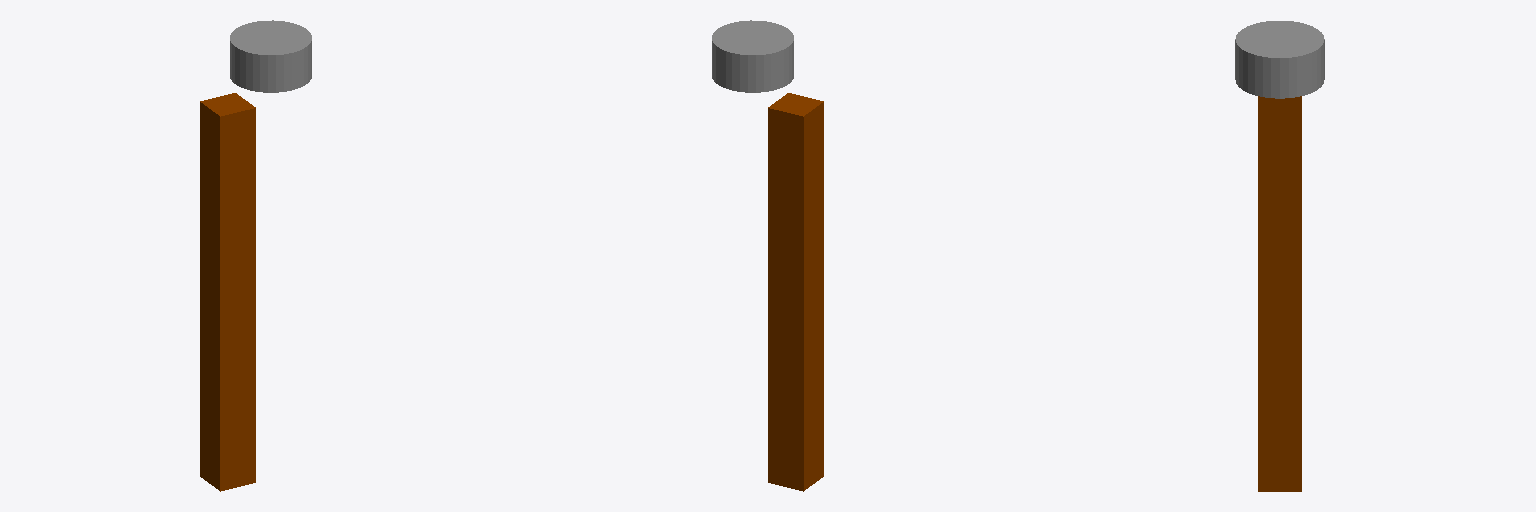
The robot description file, URDF, robot "awesome_leg_complete_fixed":
<?xml version="1.0" encoding="utf-8" ?>

<!-- 
    Leg complete urdf with fixed hip (no plugins, etc..). Mainly used by Horizon.
-->

<robot name="awesome_leg_complete_fixed" xmlns:xacro="http://www.ros.org/wiki/xacro">

    <!-- ################### MATERIAL DEFINITIONS ################### -->

    <material name="sky_blue">
        <color rgba="0.13 0.44 0.70 1"/>
    </material>
    <material name="grey">
        <color rgba=" 0.6 0.6 0.6 1"/>
    </material>
    <material name="black">
        <color rgba="0.4 0.4 0.4 1"/>
    </material>
    <material name="brown">
        <color rgba="0.59 0.29 0.0 1"/>
    </material>

    <!-- ################### LINKS ################### -->
    <link name="world"/>

   <link name="test_rig"> <!-- test rig link; defined here to be able to cope with passive joints -->
      <visual>
          <origin rpy="0 0 0" xyz="-0.12 0 0" />
          <geometry>
              <box size="0.1 0.1 1" />
          </geometry>
          <material name="brown"/>
      </visual>
      
      <collision>
          <origin rpy="0 0 0" xyz="-0.12 0 0" />
          <geometry>
              <box size="0.1 0.1 1" />
          </geometry>
      </collision>
      
      <inertial>
          <mass value="0.1" />
          <inertia ixx="0.03" iyy="0.03" izz="0.03" ixy="0.0" ixz="0.0" iyz="0.0" />
      </inertial>

    </link>  

    <link name="pelvis">
        <inertial>
        <mass value="10.0"/> <!-- considering also the mass contribution of the robot torso -->
        <inertia ixx="0.00208333333333" ixy="0.0" ixz="0.0" iyy="0.00208333333333" iyz="0.0" izz="0.0025"/>
        </inertial>
        <visual>
        <material name="grey"/>
        <geometry>
            <cylinder length="0.1" radius="0.1"/>
        </geometry>
        </visual>
        <visual>
        <geometry>
            <cylinder length="0.1" radius="0.1"/>
        </geometry>
        </visual>
    </link>

    <link name="hip1_1">
        <inertial>
        <origin xyz="0.010214199 0.0 0.038090987"/>
        <mass value="1.9194403"/>
        <inertia ixx="0.0047439572" ixy="-0.0" ixz="-0.0003784138" iyy="0.0040551878" iyz="-0.0" izz="0.0034146219"/>
        </inertial>
        <visual>
        <origin rpy="0.0 0.0 2.03221245002" xyz="0.0 0.0 0.0"/>
        <geometry>
            <mesh filename="package://awesome_leg/description/meshes/visual/hip-yaw.stl" scale="0.001 0.001 0.001"/>
        </geometry>
        <material name="grey"/>
        </visual>
        <collision>
        <origin rpy="0.0 0.0 2.03221245002" xyz="0.0 0.0 0.0"/>
        <geometry>
            <mesh filename="package://awesome_leg/description/meshes/collision/hip-yaw.stl" scale="0.001 0.001 0.001"/>
        </geometry>
        </collision>
    </link>

    <link name="hip2_1">
        <inertial>
        <origin xyz="2.57966e-05 0.1810266 0.085669756"/>
        <mass value="2.7264471"/>
        <inertia ixx="0.04851869" ixy="-4.11894e-05" ixz="-1.68778e-05" iyy="0.004242055" iyz="0.0032243188" izz="0.04825583"/>
        </inertial>
        <visual>
        <origin rpy="0.0 0.0 0.0" xyz="0.0 0.0 0.0"/>
        <material name="sky_blue"/>
        <geometry>
            <mesh filename="package://awesome_leg/description/meshes/visual/hip-pitch.stl" scale="0.001 0.001 0.001"/>
        </geometry>
        </visual>
        <collision>
        <origin rpy="0.0 0.0 0.0" xyz="0.0 0.0 0.0"/>
        <geometry>
            <mesh filename="package://awesome_leg/description/meshes/collision/hip-pitch.stl" scale="0.001 0.001 0.001"/>
        </geometry>
        </collision>
    </link>

    <link name="knee_1">
        <inertial>
        <mass value="1.1927236"/>
        <origin rpy="0.0 0.0 0.0" xyz="0.19572282 -0.014549221 -0.020785942"/>
        <inertia ixx="0.0013302597" ixy="0.00060307457" ixz="0.0" iyy="0.035313402" iyz="-1.1029574e-07" izz="0.035530025"/>
        </inertial>
        <visual>
        <origin rpy="1.57079632679 0 -1.57079632679" xyz="0 0 0"/>
        <material name="grey"/>
        <geometry name="1_stick_visual">
            <mesh filename="package://awesome_leg/description/meshes/visual/front_right_stick.stl" scale="0.001 0.001 0.001"/>
        </geometry>
        </visual>
        <collision>
        <origin rpy="1.57079632679 0 -1.57079632679" xyz="0 0 0"/>
        <geometry name="1_stick_collision">
            <mesh filename="package://awesome_leg/description/meshes/collision/front_right_stick.stl" scale="0.001 0.001 0.001"/>
        </geometry>
        </collision>
    </link>
    
    <link name="tip"/> <!-- just for reference-->

    <!-- ################### JOINTS ################### -->
    
    <joint name="world_test_rig" type="fixed">
    <parent link="world"/>
    <child link="test_rig"/>
    </joint>

    <joint name="passive_joint" type="fixed">
      <parent link="test_rig" />
      <child link="pelvis" />
      <origin xyz="0 0 0.6" />
  </joint>

    <joint name="hip_yaw_1" type="fixed">
        <parent link="pelvis"/>
        <child link="hip1_1"/>
        <origin rpy="3.14159265359 0.0 0.0" xyz="0.0 -0.0 -0.0566"/>
    </joint>

    <joint name="hip_pitch_1" type="revolute">
        <parent link="hip1_1"/>
        <child link="hip2_1"/>
        <origin rpy="1.57079632679 0.0 1.5707963268" xyz="0.0 0.0 0.0625"/>
        <axis xyz="0 0 1"/>
        <limit effort="112" lower="-2.0226" upper="2.02748" velocity="20.0"/>
    </joint>

    <joint name="knee_pitch_1" type="revolute">
        <parent link="hip2_1"/>
        <child link="knee_1"/>
        <origin rpy="3.14159265359 0.0 1.57079632679" xyz="0.0 0.3 -0.0036"/>
        <axis xyz="0 0 1"/>
        <limit effort="112" lower="-2.0226" upper="2.02748" velocity="20.0"/>
    </joint>

    <joint name="tip_joint" type="fixed">
        <parent link="knee_1"/>
        <child link="tip"/>
        <origin xyz="0.45 0.0 -0.02"/>
    </joint>

</robot>

--- Render facts (derived) ---
3 views of the same robot in one strip: view 1: azimuth 30°, elevation 25°; view 2: azimuth 150°, elevation 25°; view 3: azimuth 270°, elevation 25° (orthographic).
Model awesome_leg_complete_fixed with 7 links and 6 joints (2 revolute, 4 fixed), rooted at world, posed every joint at zero.
Links seen in each view (by area): view 1: test_rig, pelvis; view 2: test_rig, pelvis; view 3: test_rig, pelvis.
Link boxes in pixels (left/top/right/bottom): test_rig: left=200, top=93, right=255, bottom=491; pelvis: left=230, top=20, right=311, bottom=92; test_rig: left=768, top=93, right=823, bottom=491; pelvis: left=712, top=20, right=793, bottom=92; test_rig: left=1258, top=96, right=1301, bottom=491; pelvis: left=1235, top=21, right=1324, bottom=98.
Size in the robot's own frame: 0.27 by 0.2 by 1.15 metres.
Meshes: 3 distinct files referenced, 0 mesh visuals loaded (none loaded); not drawn: 3 (reference not matched to a file when rendering).